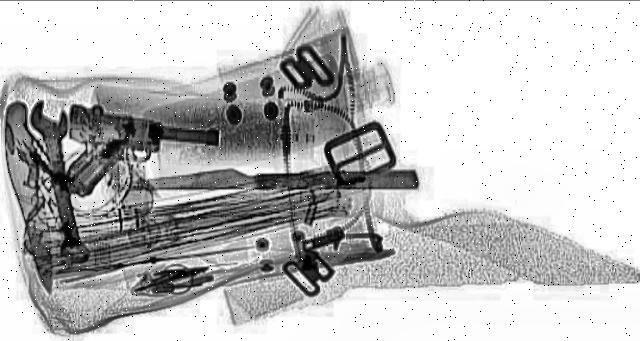Gun: (29, 100, 228, 210)
Knife: (0, 101, 56, 292), (121, 164, 419, 192)
Wrench: (27, 97, 93, 262)
